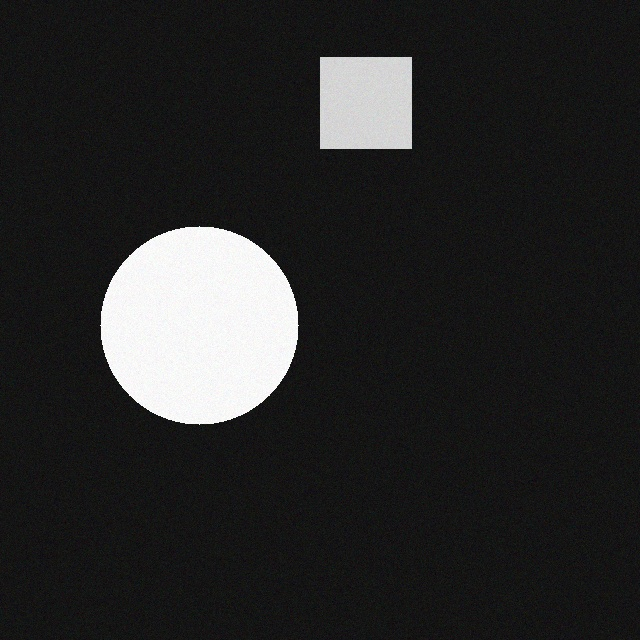circle: (87, 216, 285, 414)
square: (307, 47, 398, 138)
